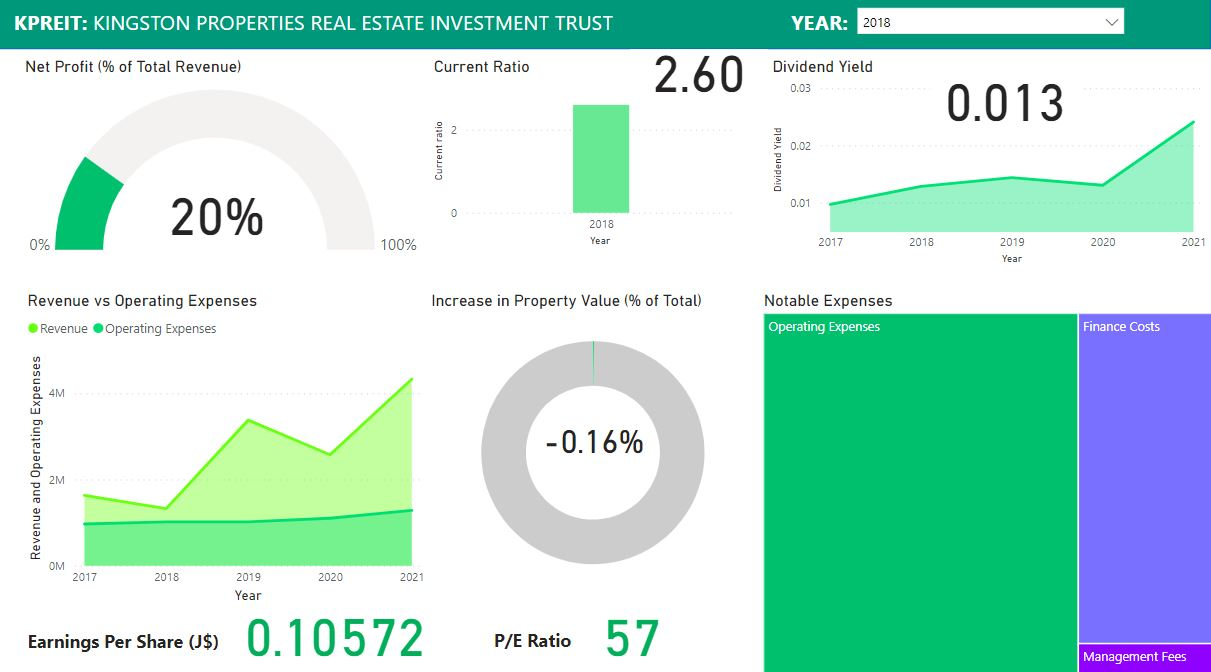

The dashboard page shown, as its layout file describes it:
{"tool":"powerbi","page":{"name":"Page 1","canvas":[1280,720],"ordinal":0},"visuals":[{"type":"shape","box":[0,0,1270.4,53.6],"z":0},{"type":"textbox","box":[11,5.5,723.8,43.9],"z":1000},{"type":"textbox","box":[825.4,5.5,127.7,41.2],"z":2000},{"type":"gauge","title":"Net Profit (% of Total Revenue)","fields":{"Y":["Avg(Sheet1.Net Profit/Total Revenue)"],"MinValue":["Sheet1.min_np/tr"],"MaxValue":["Sheet1.max_np/tr"]},"box":[22,61.8,425.8,222.5],"z":3000},{"type":"areaChart","title":"Dividend Yield","fields":{"Category":["Sheet1 (2).Year","Sheet1 (2).Dividend Yield"],"Y":["Sum(Sheet1 (2).Dividend Yield)"]},"box":[806.2,61.8,464.2,222.5],"z":4000},{"type":"clusteredColumnChart","title":"Current Ratio","fields":{"Category":["Sheet1.Year","Sheet1.Current ratio"],"Y":["Sum(Sheet1.Current ratio)"]},"box":[450.5,61.8,324.1,203.3],"z":5000},{"type":"areaChart","title":"Revenue vs Operating Expenses","fields":{"Category":["Sheet1 (2).Year"],"Y":["Sum(Sheet1 (2).Revenue)","Sum(Sheet1 (2).Operating Expenses)"]},"box":[24.7,306.3,425.8,332.4],"z":6000},{"type":"treemap","title":"Notable Expenses","fields":{"Values":["Sum(Sheet1.Management Fees)","Sum(Sheet1.Loss on disposal of furniture and equipment)","Sum(Sheet1.Investment Fee)","Sum(Sheet1.Finance Costs)","Sum(Sheet1.Operating Expenses)"]},"box":[796.6,306.3,483.4,407.9],"z":7000},{"type":"donutChart","title":"Increase in Property Value (% of Total)","fields":{"Y":["Sheet1.abs_ipv","Sheet1.Other Value"]},"box":[447.7,306.3,348.8,321.4],"z":8000},{"type":"card","fields":{"Values":["Avg(Sheet1.Dividend Yield)"]},"box":[976.5,85.2,157.9,57.7],"z":9000},{"type":"card","fields":{"Values":["Avg(Sheet1.Current ratio)"]},"box":[662,53.6,144.2,60.4],"z":10000},{"type":"slicer","fields":{"Values":["Sheet1.Year"]},"box":[890,0,299.4,53.6],"z":11000},{"type":"card","fields":{"Values":["Sheet1.np/tr"]},"box":[142.8,201.9,171.7,63.2],"z":12000},{"type":"textbox","box":[24.7,656.5,232.1,50.8],"z":13000},{"type":"card","fields":{"Values":["Sum(Sheet1.Earnings per stck unit (adj.) (adj.))"]},"box":[229.4,640,245.8,67.3],"z":14000},{"type":"textbox","box":[513.6,655.1,108.5,33],"z":15000},{"type":"card","fields":{"Values":["Sheet1.P/E Ratio"]},"box":[601.5,641.4,122.2,65.9],"z":16000},{"type":"card","fields":{"Values":["Sheet1.ipv"]},"box":[563.1,446.4,119.5,52.2],"z":17000}]}

Visuals, with their boxes in screenshot pixels (x1, y1, x2, y2), scaled from the page's 1280x720 canvas onto the 1211x672 screenshot:
shape: Rect(0, 0, 1202, 50)
textbox: Rect(10, 5, 695, 46)
textbox: Rect(781, 5, 902, 44)
"Net Profit (% of Total Revenue)" gauge: Rect(21, 58, 424, 265)
"Dividend Yield" areaChart: Rect(763, 58, 1202, 265)
"Current Ratio" clusteredColumnChart: Rect(426, 58, 733, 247)
"Revenue vs Operating Expenses" areaChart: Rect(23, 286, 426, 596)
"Notable Expenses" treemap: Rect(754, 286, 1210, 667)
"Increase in Property Value (% of Total)" donutChart: Rect(424, 286, 754, 586)
card - Avg(Sheet1.Dividend Yield): Rect(924, 80, 1073, 133)
card - Avg(Sheet1.Current ratio): Rect(626, 50, 763, 106)
slicer - Sheet1.Year: Rect(842, 0, 1125, 50)
card - Sheet1.np/tr: Rect(135, 188, 298, 247)
textbox: Rect(23, 613, 243, 660)
card - Sum(Sheet1.Earnings per stck unit (adj.) (adj.)): Rect(217, 597, 450, 660)
textbox: Rect(486, 611, 589, 642)
card - Sheet1.P/E Ratio: Rect(569, 599, 685, 660)
card - Sheet1.ipv: Rect(533, 417, 646, 465)
